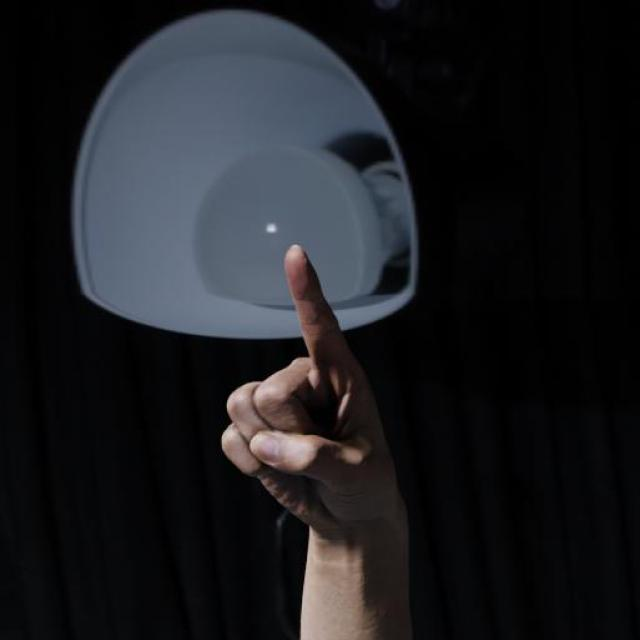Z: (218, 242, 414, 536)
